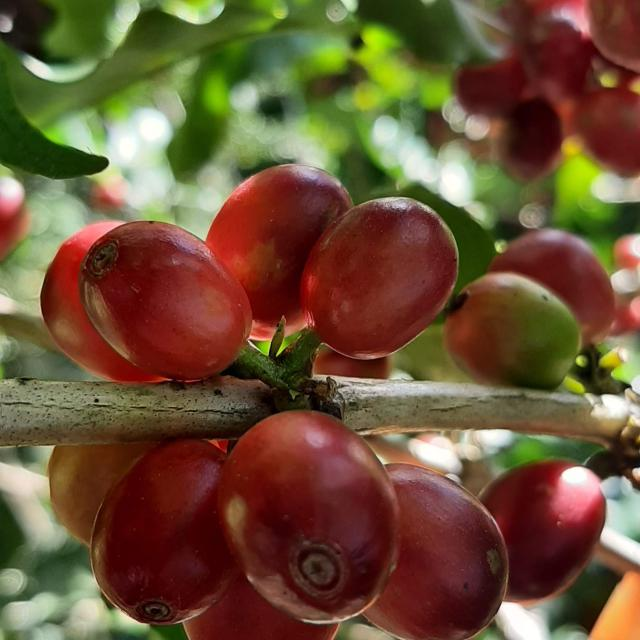red: (218, 411, 399, 625), (78, 221, 252, 381), (90, 440, 238, 626), (205, 164, 353, 340), (301, 197, 459, 360), (364, 464, 509, 640), (40, 221, 165, 382), (481, 460, 607, 603), (489, 228, 616, 346), (47, 444, 156, 547), (183, 575, 339, 640)
yellow: (445, 273, 582, 390)
